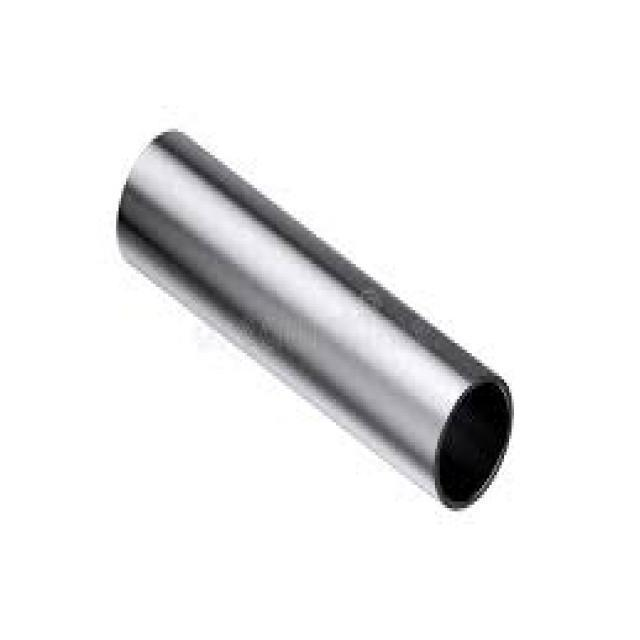pipe: (437, 383, 512, 508)
